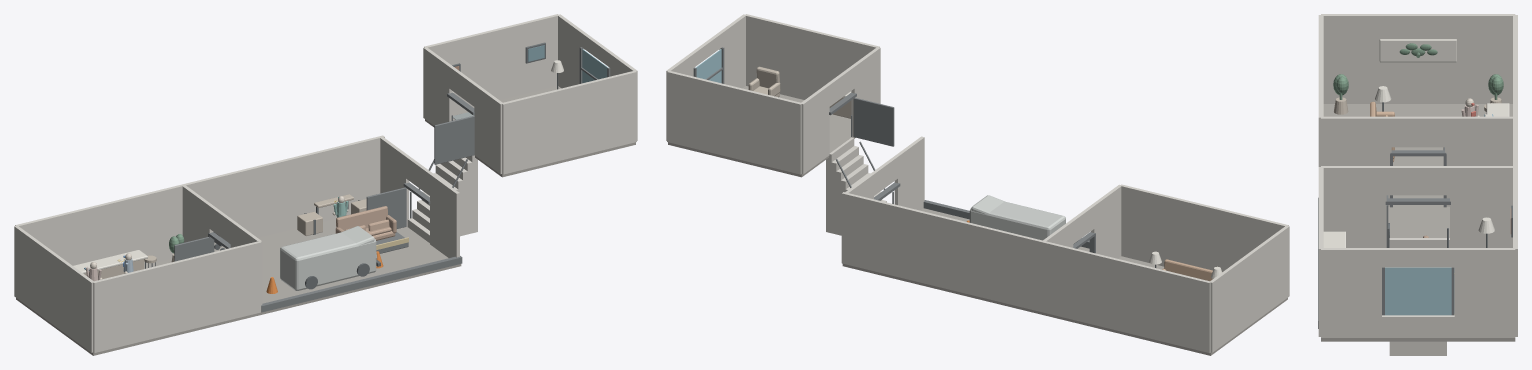
3 renders of one model, left to right at view 1: azimuth 30°, elevation 25°; view 2: azimuth 150°, elevation 25°; view 3: azimuth 270°, elevation 25°, orthographic. The views are drawn at different scales.
Visible parts, largest first — view 1: S01_south_wall, S02_north_wall, S03_south_wall, S01_north_wall, S03_north_wall, S01_west_wall, S02_floor, V01_body, S02_east_wall_south, S03_west_wall_south, S03_west_wall_north, S02_south_curb (+19 smaller); view 2: S02_north_wall, S01_north_wall, S03_north_wall, S01_south_wall, S03_south_wall, S01_west_wall, V01_body, S03_west_wall_north, S02_east_wall_south, S01_east_wall_south, S03_entry_door_open, S03_east_wall_south (+15 smaller); view 3: S01_west_wall, S03_east_wall_north, S03_east_wall_south, S03_west_wall_north, S03_west_wall_south, S01_east_wall_south, S01_east_wall_north, S03_window_glass, S01_floor, S02_floor, S03_entry_header, S01_door_header (+19 smaller).
Boxes of the visible parts, x1,y1,x2,y2 form: S01_south_wall: [93, 241, 261, 352]; S02_north_wall: [182, 135, 384, 246]; S03_south_wall: [501, 70, 636, 174]; S01_north_wall: [15, 184, 182, 265]; S03_north_wall: [424, 14, 559, 111]; S01_west_wall: [14, 225, 94, 352]; S02_floor: [214, 219, 461, 314]; V01_body: [280, 232, 376, 290]; S02_east_wall_south: [430, 173, 459, 257]; S03_west_wall_south: [474, 84, 502, 174]; S03_west_wall_north: [423, 47, 452, 125]; S02_south_curb: [261, 256, 462, 312]; S02_north_wall: [841, 192, 1043, 312]; S01_north_wall: [1042, 241, 1210, 352]; S03_north_wall: [667, 70, 802, 174]; S01_south_wall: [1121, 184, 1288, 271]; S03_south_wall: [744, 14, 879, 99]; S01_west_wall: [1209, 225, 1289, 352]; V01_body: [969, 201, 1065, 240]; S03_west_wall_north: [801, 84, 829, 174]; S02_east_wall_south: [894, 136, 924, 210]; S01_east_wall_south: [1091, 184, 1121, 258]; S03_entry_door_open: [853, 97, 894, 146]; S03_east_wall_south: [719, 14, 745, 88]; S01_west_wall: [1321, 14, 1515, 103]; S03_east_wall_north: [1454, 248, 1515, 337]; S03_east_wall_south: [1321, 248, 1381, 337]; S03_west_wall_north: [1450, 166, 1515, 247]; S03_west_wall_south: [1321, 166, 1386, 247]; S01_east_wall_south: [1321, 116, 1391, 206]; S01_east_wall_north: [1445, 116, 1515, 206]; S03_window_glass: [1385, 267, 1451, 315]; S01_floor: [1323, 104, 1512, 205]; S02_floor: [1388, 205, 1449, 237]; S03_entry_header: [1386, 166, 1449, 195]; S01_door_header: [1391, 116, 1444, 147].
Size of the model in its own units: 32.65 by 8.7 by 8.22.
